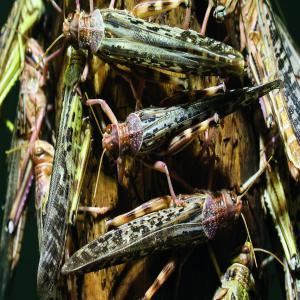locust: (70, 174, 255, 282), (33, 58, 104, 300), (64, 4, 265, 74)
